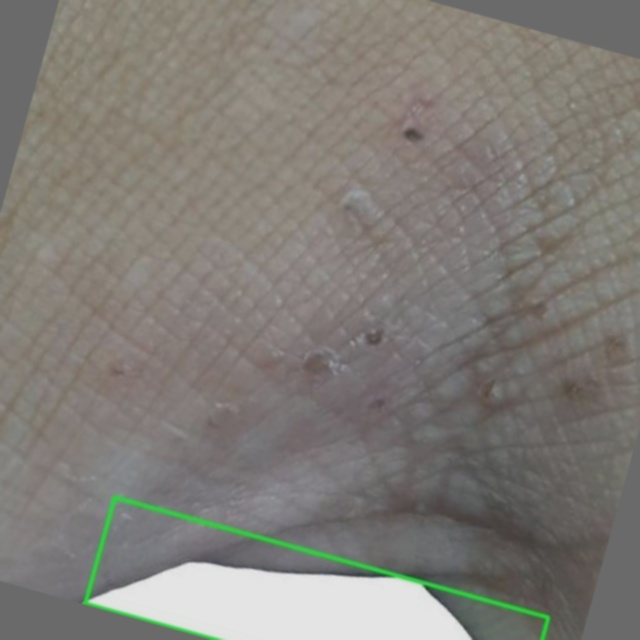Scabies: (85, 497, 548, 639)
